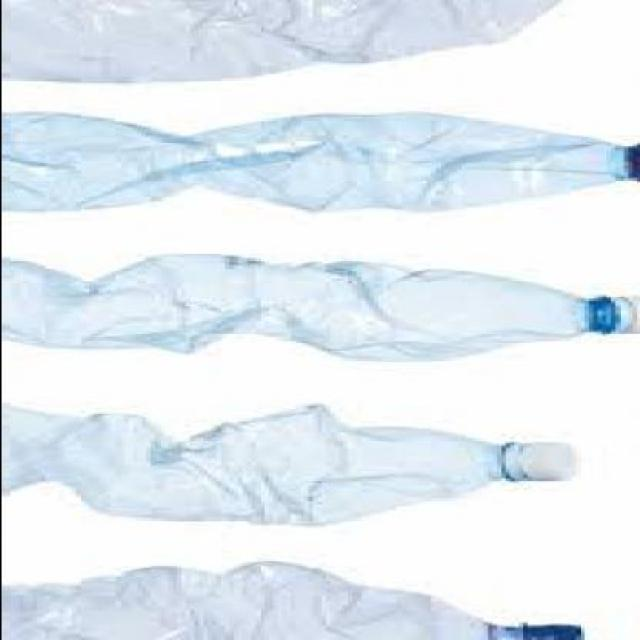PLASTIC: (4, 406, 579, 529), (4, 258, 638, 364), (4, 111, 638, 214), (4, 2, 574, 86), (1, 563, 588, 639), (500, 446, 583, 482), (600, 295, 638, 337), (500, 624, 589, 638), (622, 148, 638, 186)
